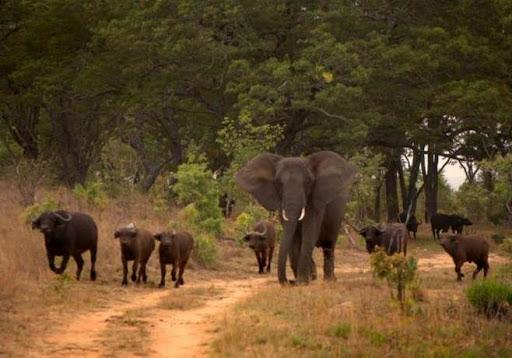Buffalo: (113, 206, 209, 292), (25, 192, 104, 280), (432, 215, 502, 297), (236, 223, 274, 272)
